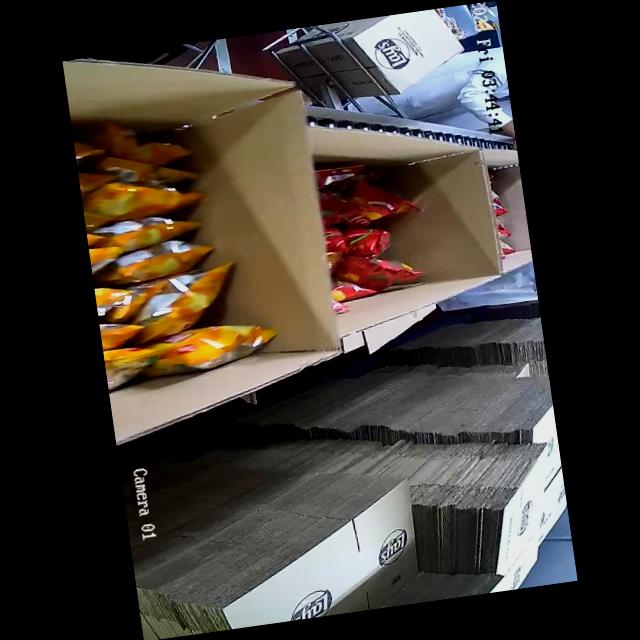cheese: (74, 122, 254, 398)
masala: (319, 139, 447, 288)
